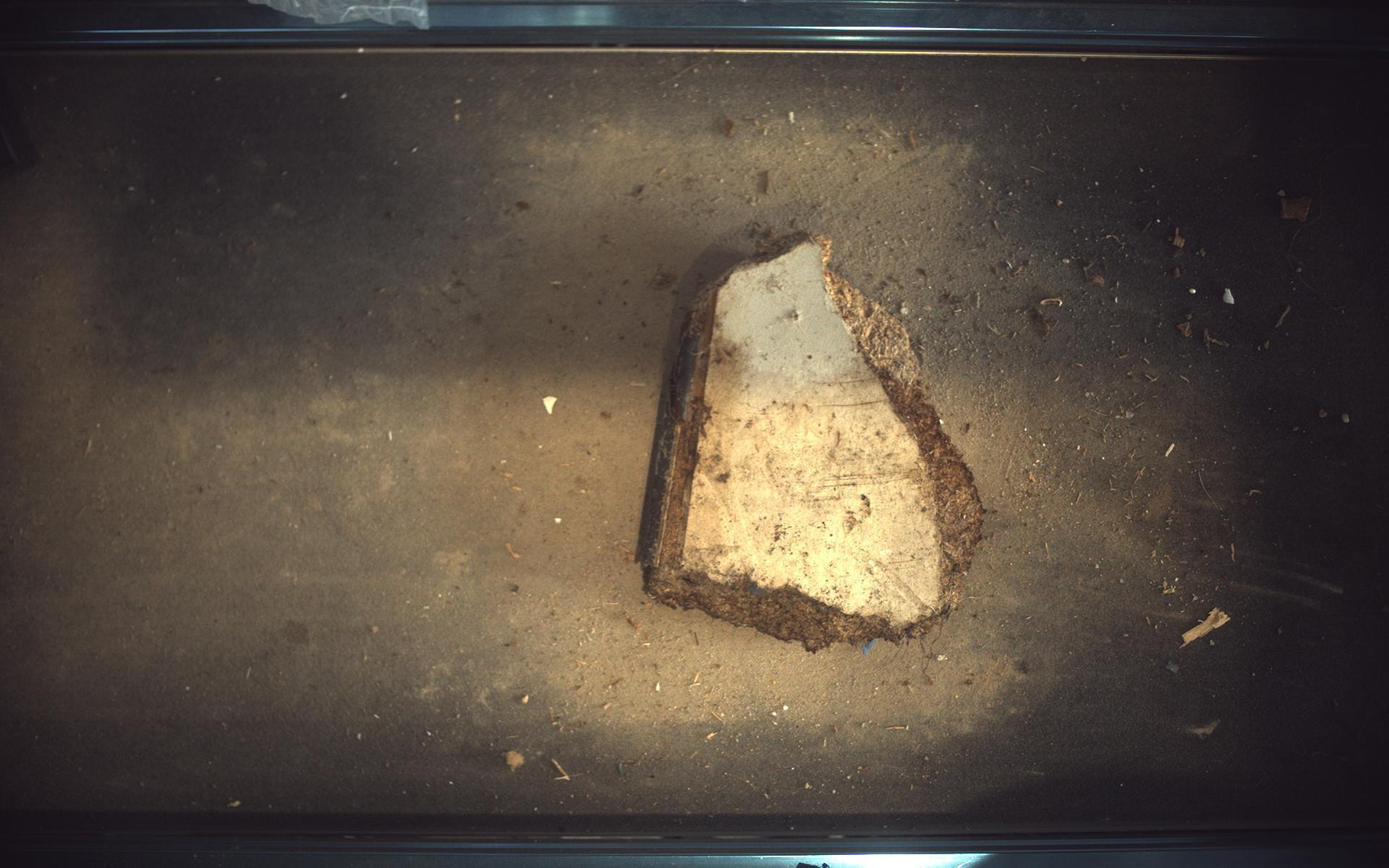wood: (639, 232, 986, 652)
